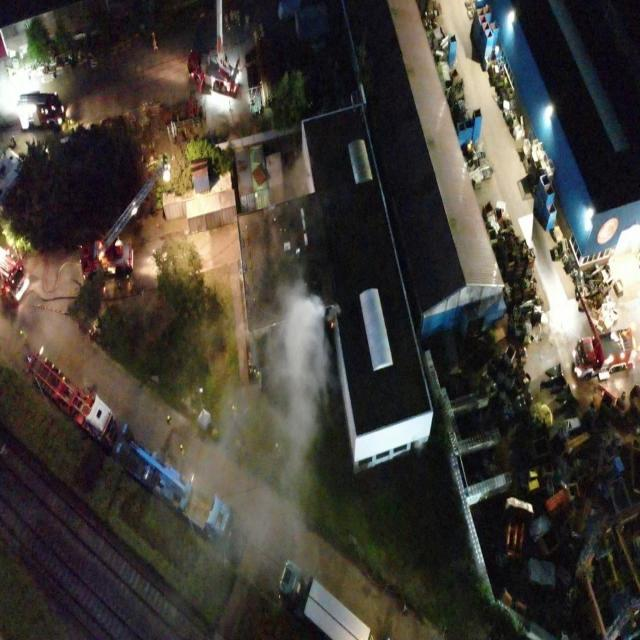Fire: (331, 320, 334, 330)
Smoke: (206, 276, 340, 590), (272, 148, 312, 206)
